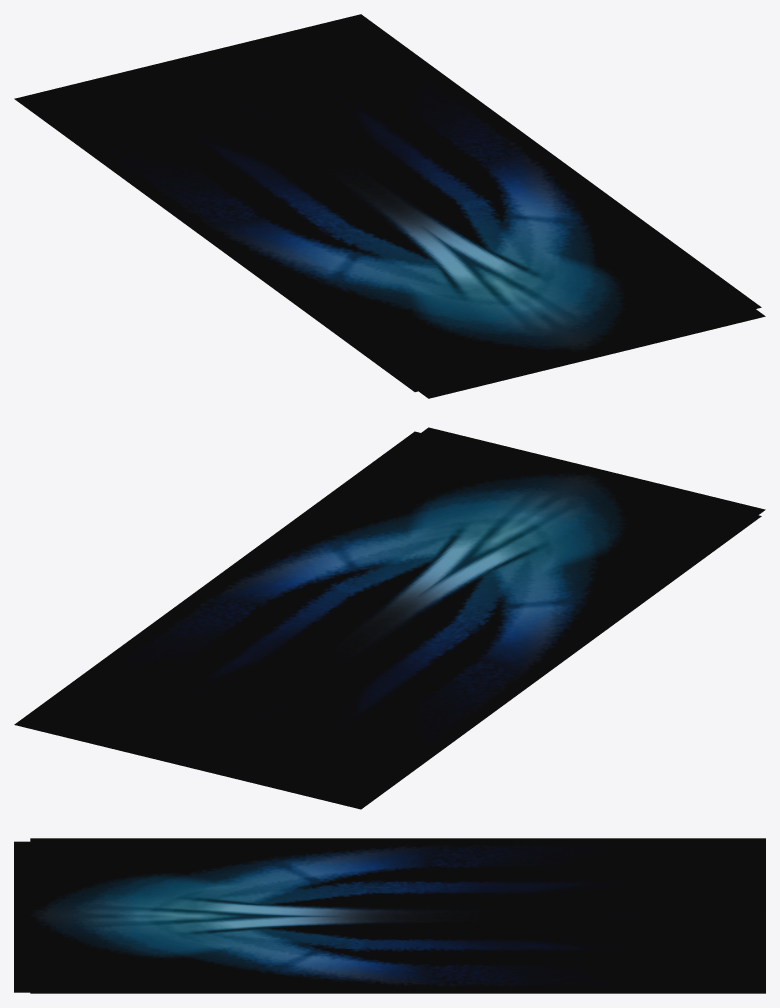
The picture shows the model from 3 angles, top to bottom: view 1: azimuth 30°, elevation 25°; view 2: azimuth 150°, elevation 25°; view 3: azimuth 270°, elevation 25°; orthographic projection. The views are drawn at different scales.
Visible parts, largest first — view 1: 1_2, 1_1; view 2: 1_2, 1_1; view 3: 1_2, 1_1.
Part boxes in pixels (x1,y1,x2,y2): 1_2: (14, 14, 761, 391); 1_1: (419, 309, 765, 398); 1_2: (14, 431, 761, 809); 1_1: (421, 427, 765, 515); 1_2: (30, 838, 765, 993); 1_1: (14, 841, 30, 992).
Size of the model in its own units: 2.06 by 0.00717 by 4.21.
1 material, 1 textured.
